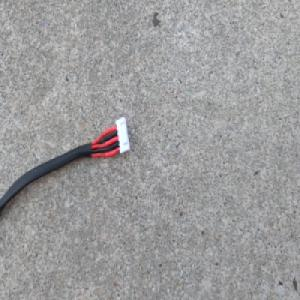Wire: (0, 114, 132, 221)
